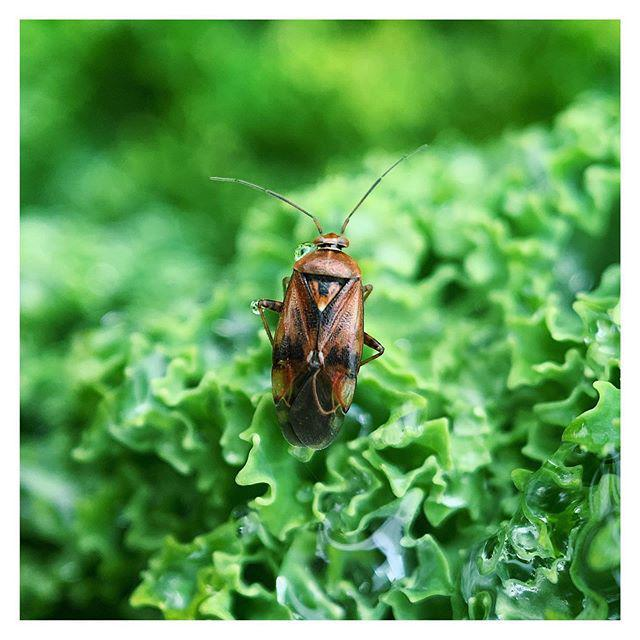Miridae-Adult-: (194, 140, 446, 456)
